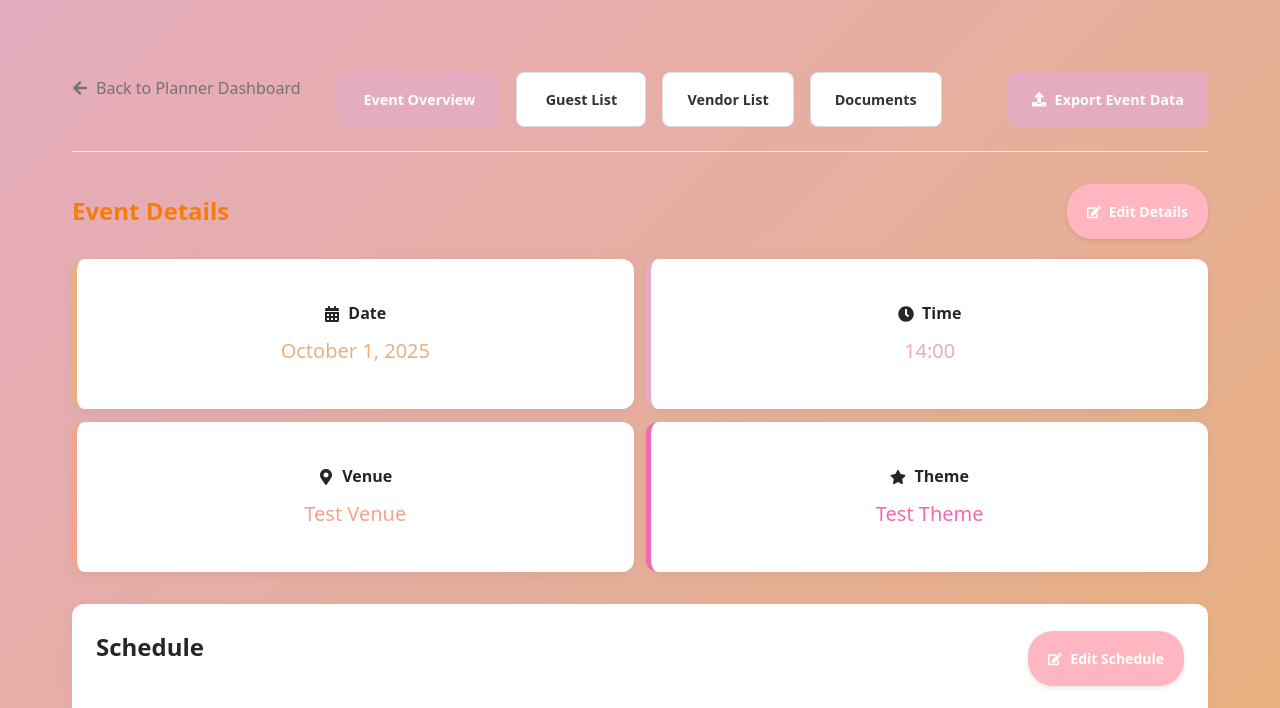
Test case: EventDetails Component › Event Details Management › toggles edit mode for main details
Click the button "Edit Details": (1137, 212) [1067,184,1208,239]
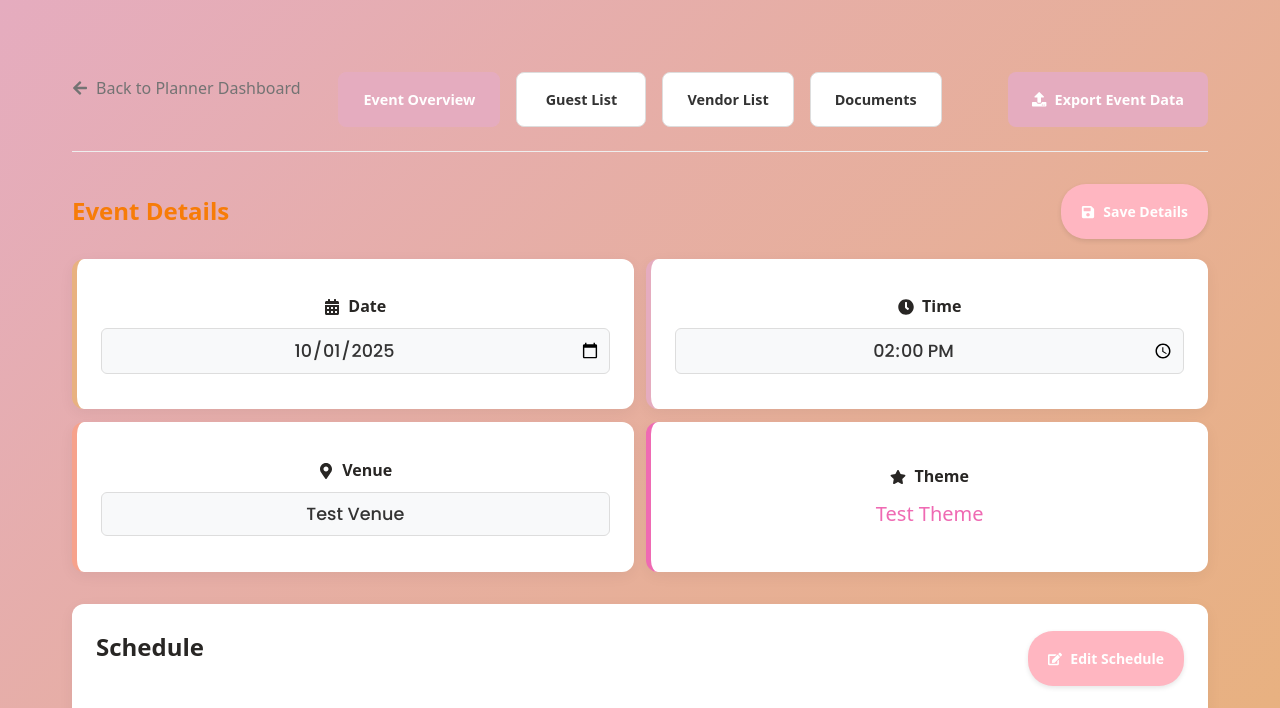
Check: the button "Save Details" is shown, box [1061,184,1208,239]
Check: the field showing "Test Venue" is shown, box [101,492,610,536]
